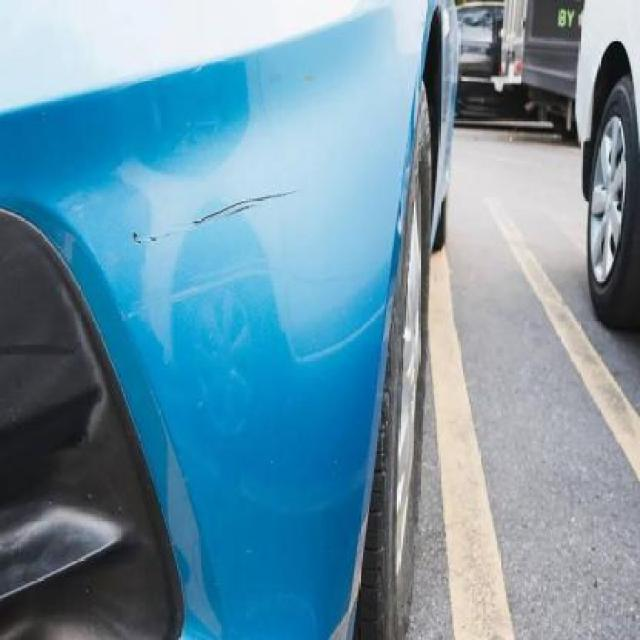scratch: (122, 180, 313, 251), (106, 258, 296, 329)
